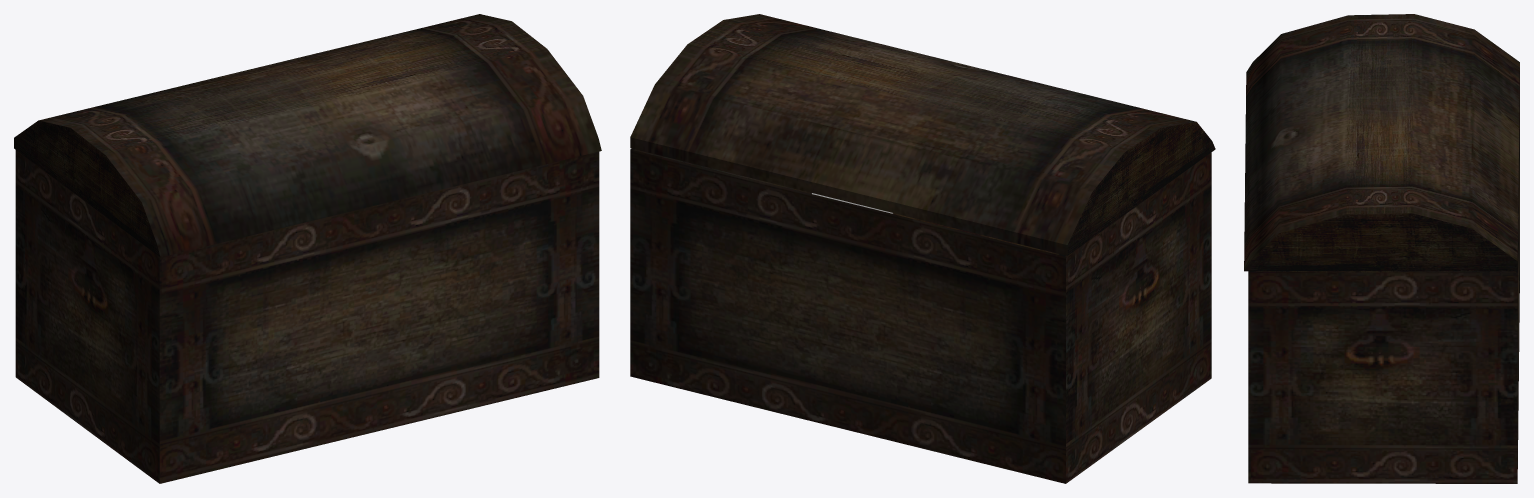
File: chest_small02.dae
3 views of the same model, side by side, from view 1: azimuth 30°, elevation 25°; view 2: azimuth 150°, elevation 25°; view 3: azimuth 270°, elevation 25° (orthographic). The views are drawn at different scales.
Parts seen in each view (by area): view 1: box, lock; view 2: box, lock; view 3: lock, box.
Boxes of the visible parts, x1,y1,x2,y2 form: box: (15,150,599,483); lock: (14,14,601,257); box: (630,148,1211,483); lock: (630,14,1215,255); lock: (1244,14,1519,271); box: (1248,83,1519,483).
Size of what is drawn, in the model's own units: 0.8577 by 0.5419 by 0.5007.
